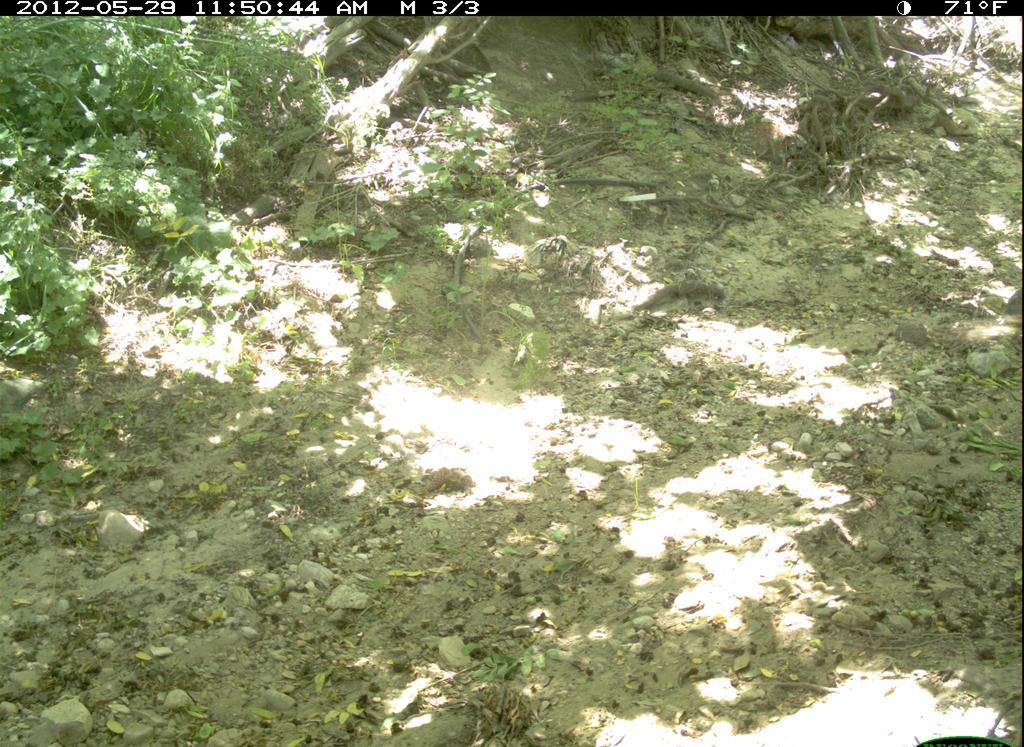rabbit: (995, 284, 1024, 326)
